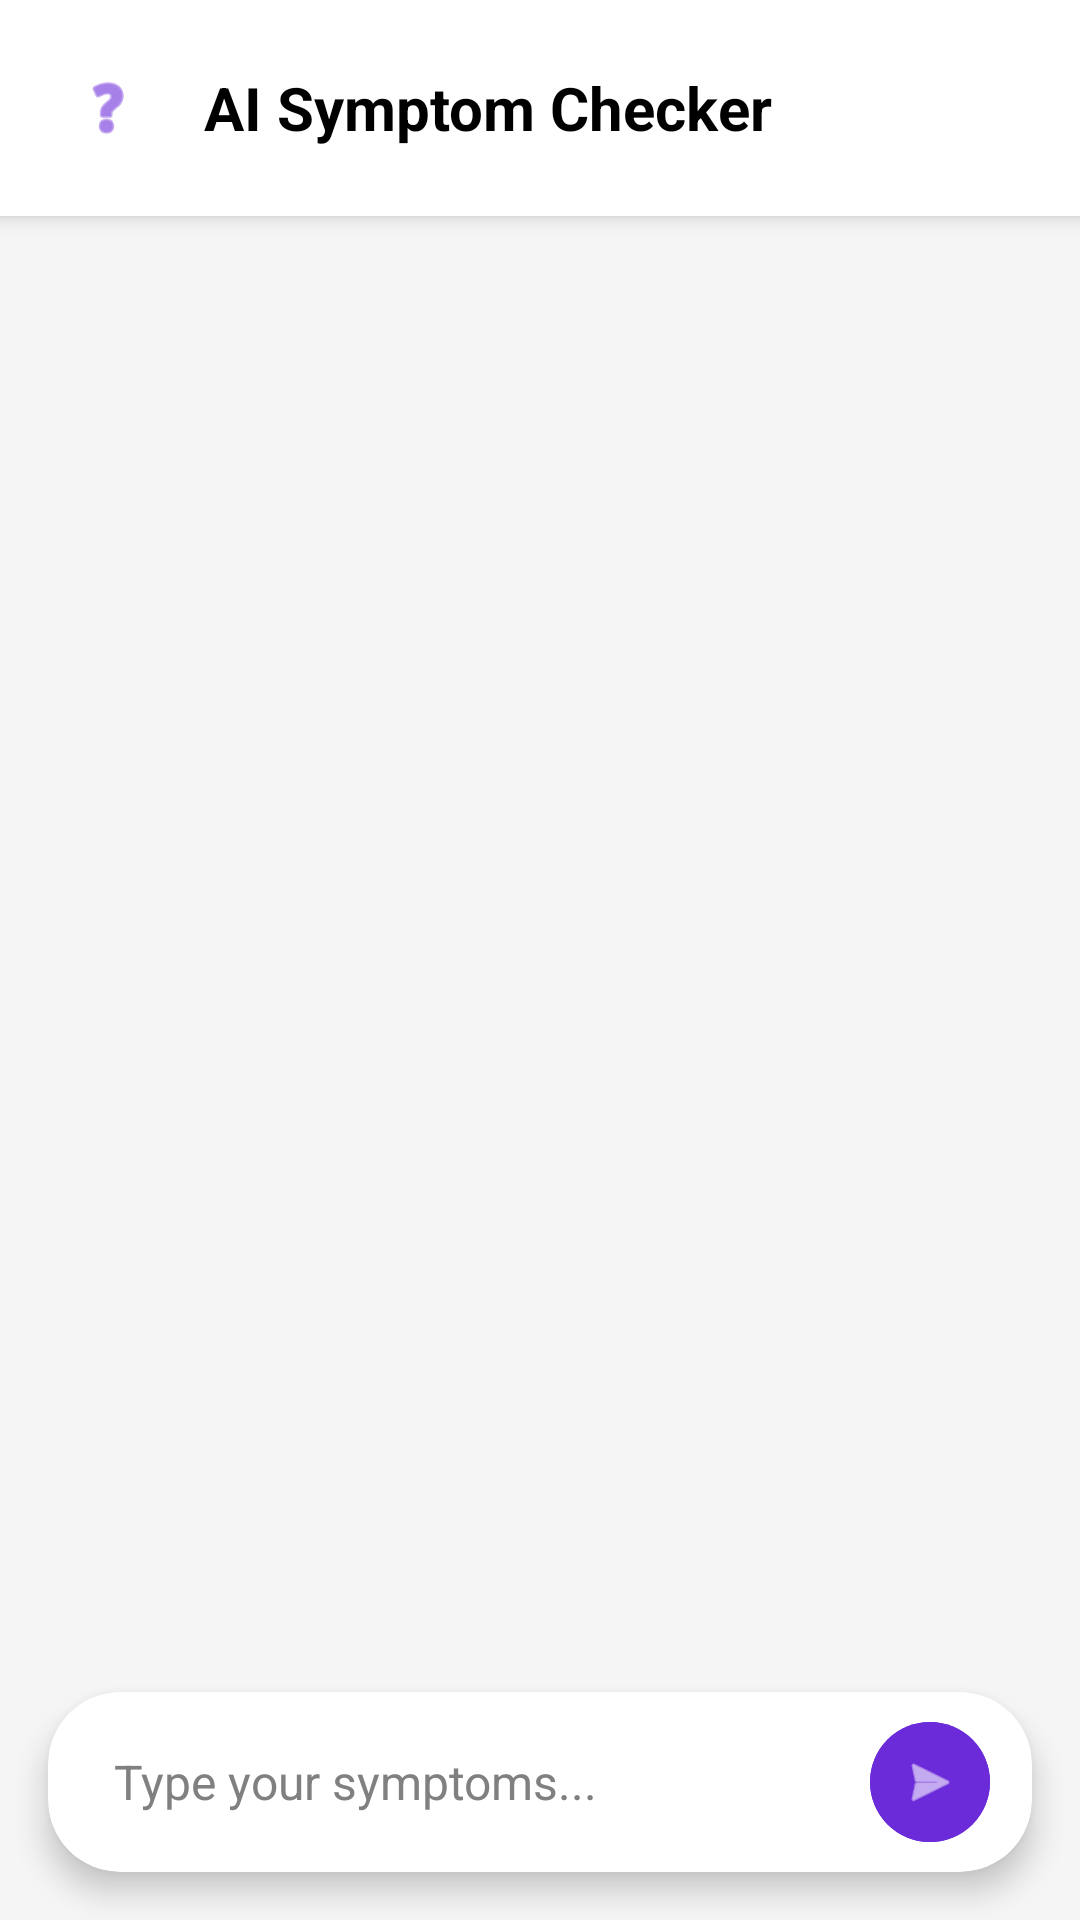

Where icons sit on this 1080*1920 app screen, as box(x1, y1, x2, y2):
help: box(92, 82, 124, 134)
send: box(870, 1722, 990, 1842)
